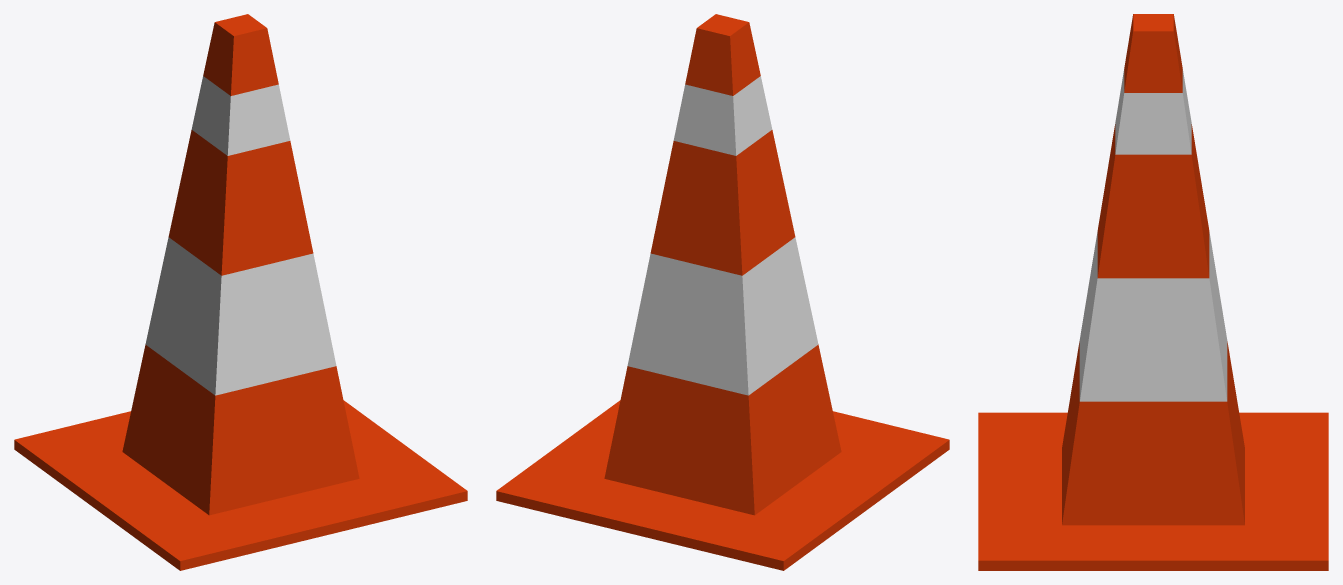
The model's file is traffic conee.fbx.
The picture shows the model from 3 angles, left to right: view 1: azimuth 30°, elevation 25°; view 2: azimuth 150°, elevation 25°; view 3: azimuth 270°, elevation 25°; orthographic projection. The views are drawn at different scales.
Parts seen in each view (by area): view 1: Cube; view 2: Cube; view 3: Cube.
Part boxes in pixels (bbox=[...]): Cube: bbox=[14, 14, 467, 570]; Cube: bbox=[496, 14, 949, 570]; Cube: bbox=[978, 14, 1328, 570].
Size of the model in its own units: 200 by 299 by 200.
